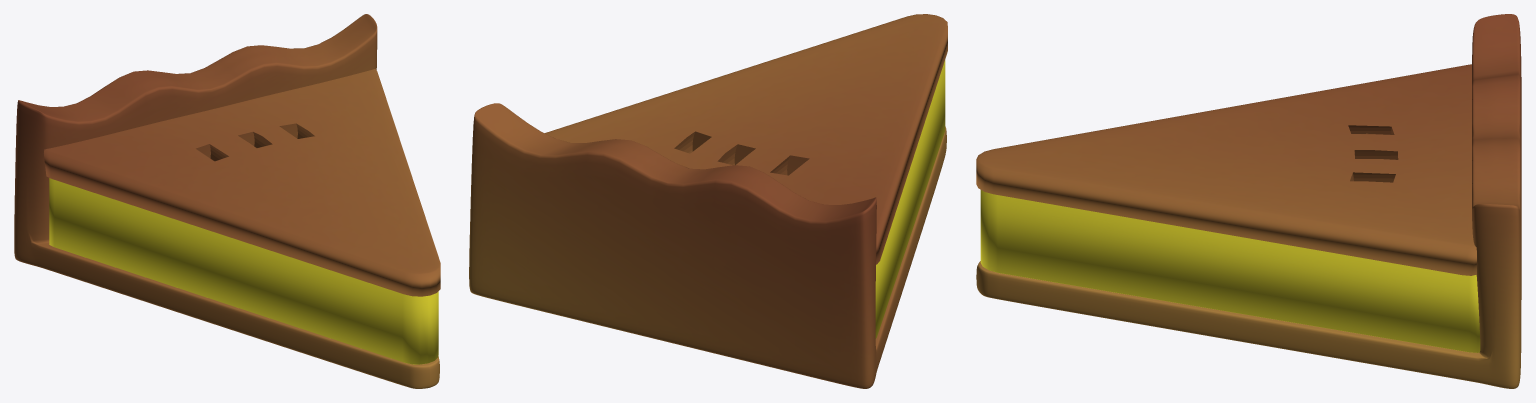
File: PiePineapple.glb
3 views of the same model, side by side, from view 1: azimuth 30°, elevation 25°; view 2: azimuth 150°, elevation 25°; view 3: azimuth 270°, elevation 25° (orthographic). The views are drawn at different scales.
Parts seen in each view (by area): view 1: PiePineapple; view 2: PiePineapple; view 3: PiePineapple.
Boxes of the visible parts, x1,y1,x2,y2 form: PiePineapple: (14,14,440,388); PiePineapple: (469,14,947,388); PiePineapple: (976,14,1521,388).
Size of the model in its own units: 0.2387 by 0.1024 by 0.2772.
1 material, 1 textured.
